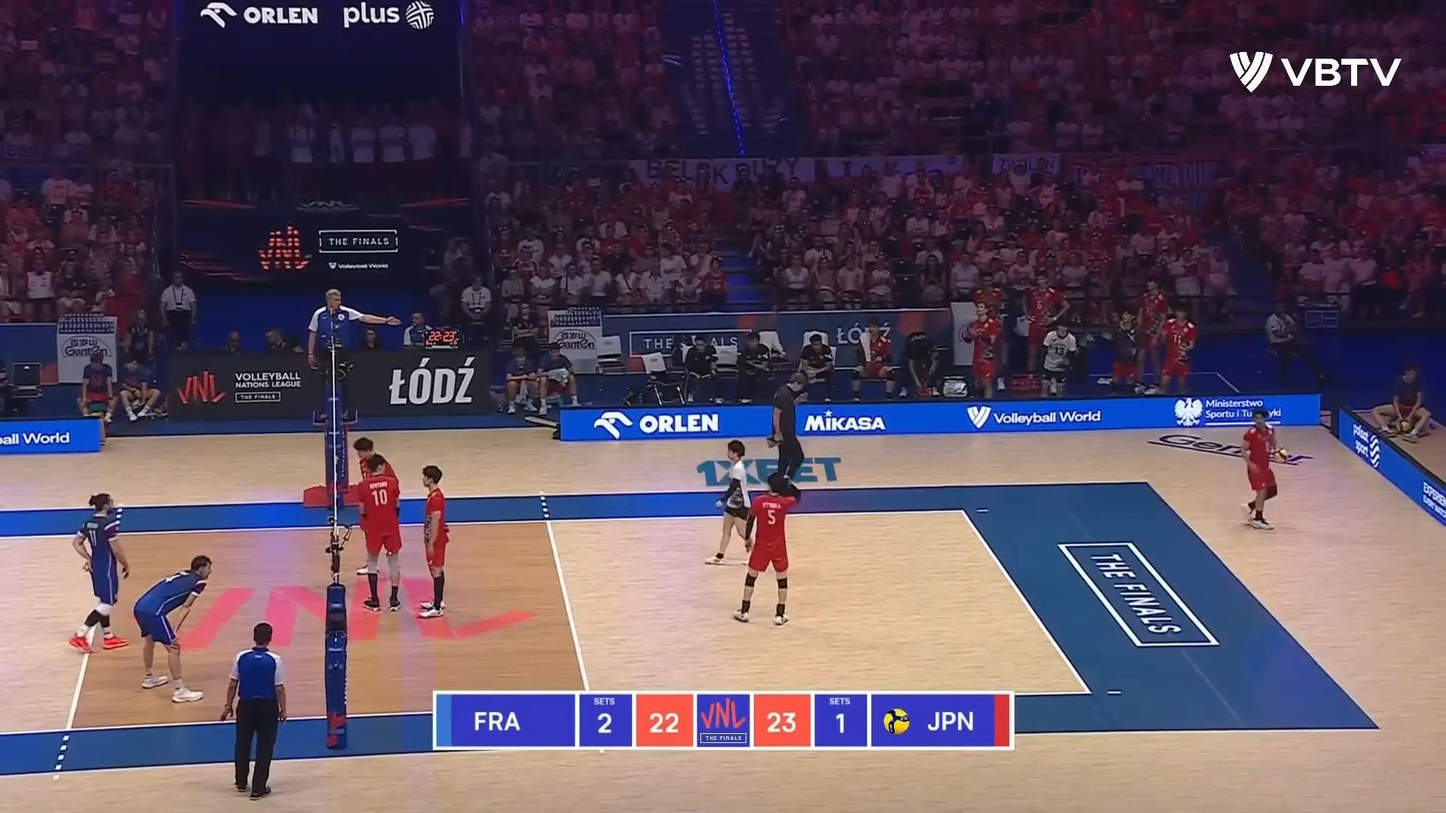ball: (1272, 447, 1289, 465)
